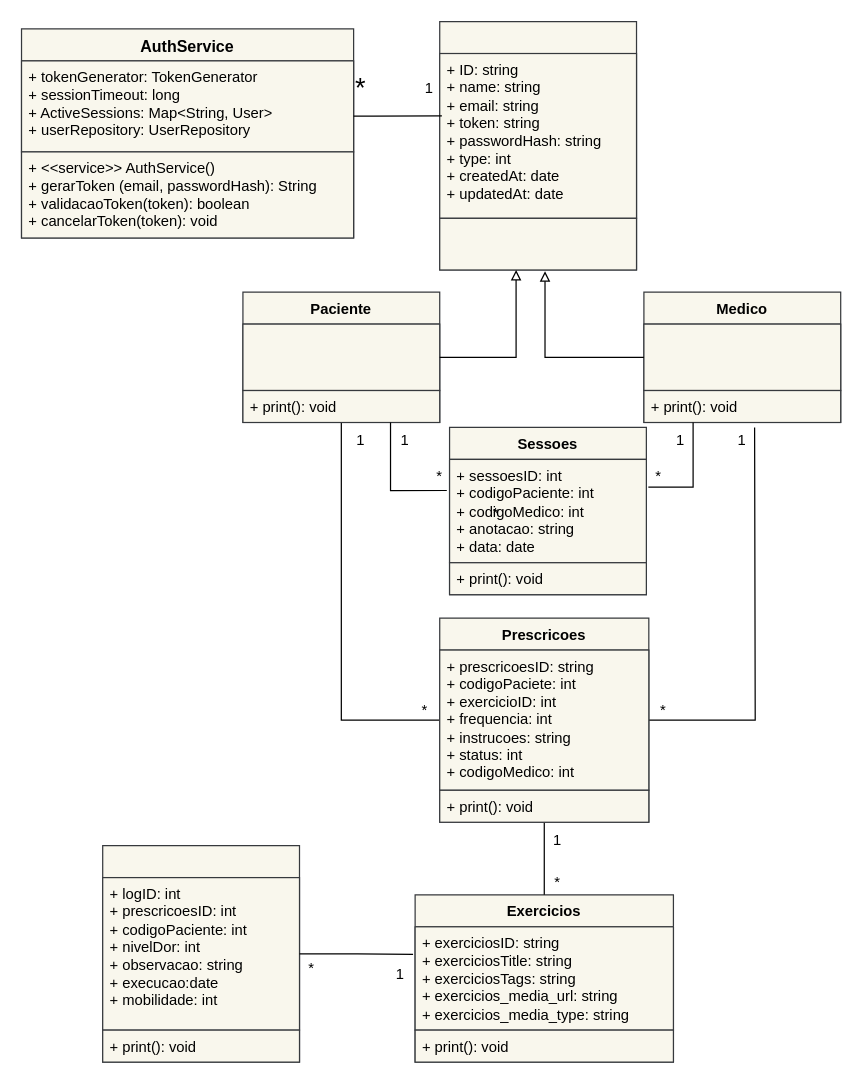
This 862x1087 diagram has some shape labels left out. Here are the shapes that lost their labels. From the top down, the box of each, then its label:
(438, 20, 637, 270): Usuarios
(438, 217, 637, 270): + logIn(type): type + logOut(): void
(242, 323, 440, 391): + codigoPaciente: string + birthDate: date + gender: string
(643, 323, 841, 391): + codigoMedico: string + crm: string +specialty: string
(101, 844, 300, 1062): Exercicios_Logs
